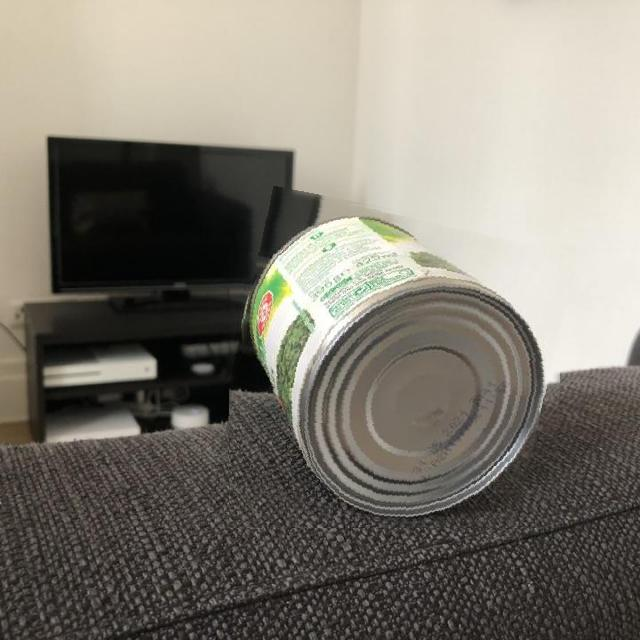recyclable: (229, 200, 565, 528)
